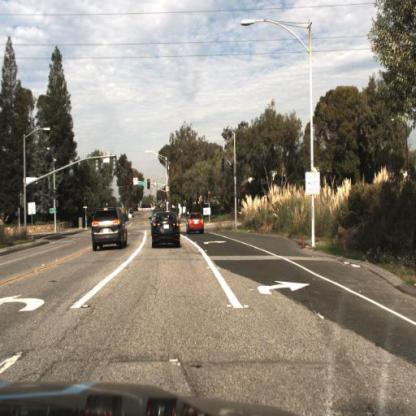car: (90, 201, 129, 250), (151, 208, 180, 247), (185, 212, 204, 234)
trafficLight: (206, 182, 214, 201)
trafficLight-Red: (128, 177, 136, 195), (145, 175, 153, 193), (81, 192, 89, 209)
